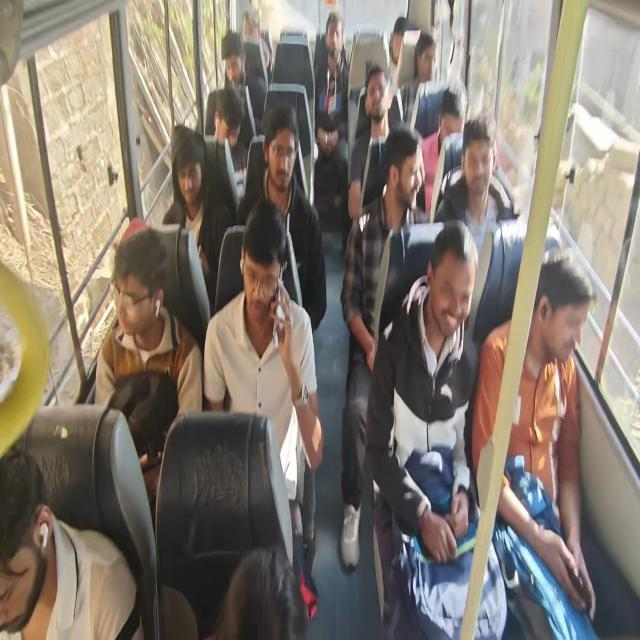person: (0, 458, 47, 625), (529, 261, 585, 365), (111, 239, 168, 340), (432, 228, 474, 344), (240, 200, 278, 310), (172, 138, 216, 219), (383, 139, 421, 209), (462, 125, 498, 197), (221, 36, 257, 96), (439, 82, 465, 143), (270, 128, 293, 194), (318, 11, 350, 57), (414, 41, 439, 88), (215, 94, 238, 145), (386, 16, 409, 66), (368, 73, 386, 116), (243, 2, 261, 31)
